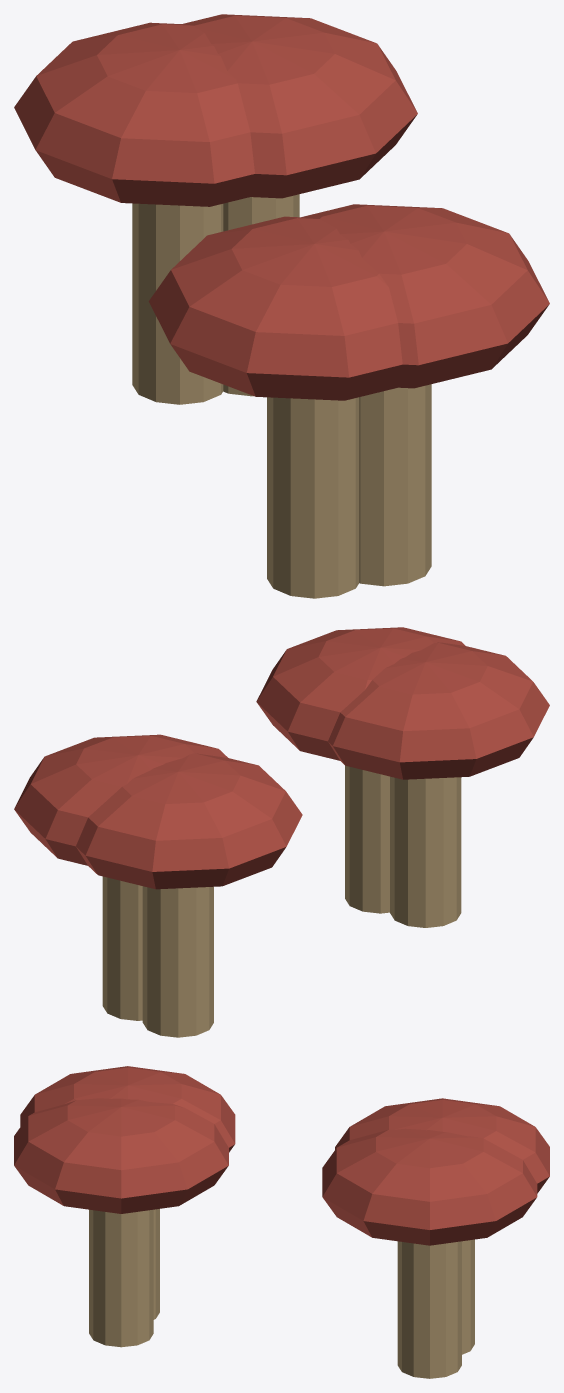
Rendered from nature-cluster-mushroom.lod0.glb.
3 views of the same model, one above another, from view 1: azimuth 30°, elevation 25°; view 2: azimuth 150°, elevation 25°; view 3: azimuth 270°, elevation 25° (orthographic). The views are drawn at different scales.
Visible parts, largest first — view 1: nature-cluster-mushroom__body; view 2: nature-cluster-mushroom__body; view 3: nature-cluster-mushroom__body.
Part boxes in pixels (x1,y1,x2,y2): nature-cluster-mushroom__body: (14,14,549,598); nature-cluster-mushroom__body: (14,627,549,1037); nature-cluster-mushroom__body: (14,1066,549,1378).
Size of the model in its own units: 0.8712 by 0.62 by 1.33.
